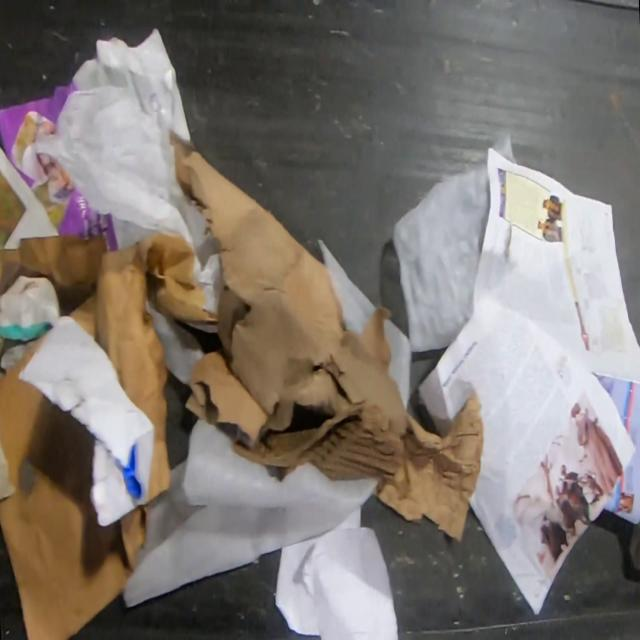cardboard: (174, 134, 407, 487), (0, 328, 148, 640), (68, 229, 218, 504), (373, 397, 485, 543), (0, 234, 104, 318)
